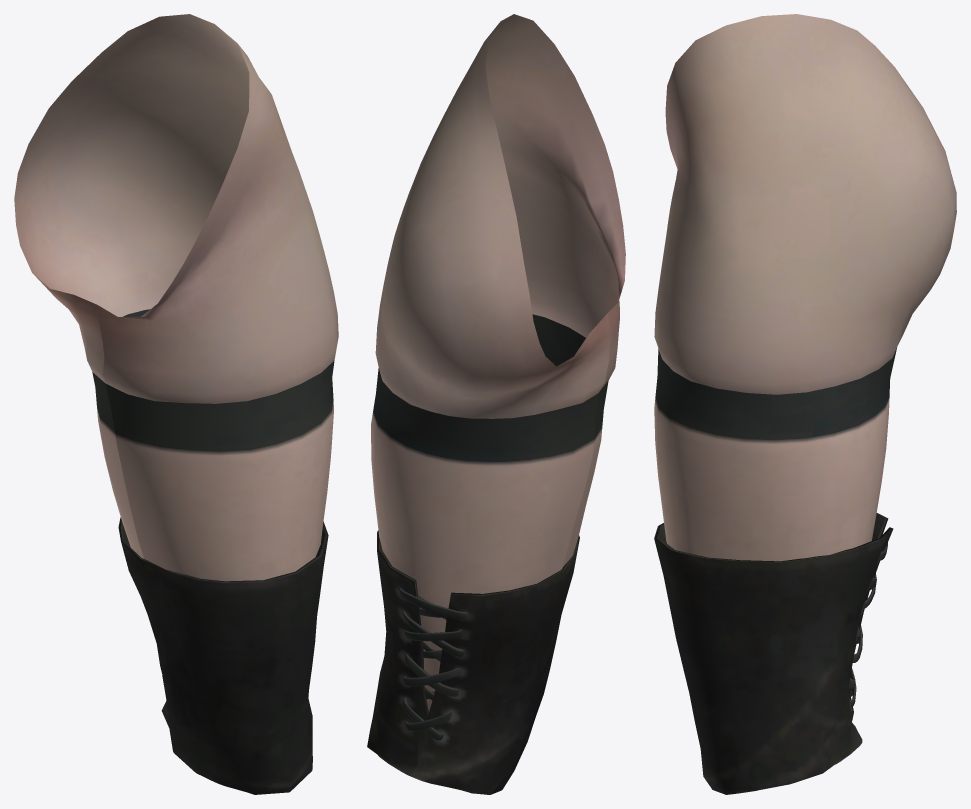
The model's file is leftleg.obj.
3 views of the same model, side by side, from view 1: azimuth 30°, elevation 25°; view 2: azimuth 150°, elevation 25°; view 3: azimuth 270°, elevation 25° (orthographic). The views are drawn at different scales.
Parts seen in each view (by area): view 1: leftleg:Object01 leftleg:polySurface3 leftleg:polySurface7 leftl, leftleg:Object01 leftleg:polySurface3 leftleg:polySurface6 leftl; view 2: leftleg:Object01 leftleg:polySurface3 leftleg:polySurface7 leftl, leftleg:Object01 leftleg:polySurface3 leftleg:polySurface6 leftl; view 3: leftleg:Object01 leftleg:polySurface3 leftleg:polySurface7 leftl, leftleg:Object01 leftleg:polySurface3 leftleg:polySurface6 leftl.
Boxes of the visible parts, x1,y1,x2,y2 form: leftleg:Object01 leftleg:polySurface3 leftleg:polySurface7 leftl: [14, 14, 338, 581]; leftleg:Object01 leftleg:polySurface3 leftleg:polySurface6 leftl: [118, 517, 328, 794]; leftleg:Object01 leftleg:polySurface3 leftleg:polySurface7 leftl: [371, 14, 625, 740]; leftleg:Object01 leftleg:polySurface3 leftleg:polySurface6 leftl: [367, 530, 579, 794]; leftleg:Object01 leftleg:polySurface3 leftleg:polySurface7 leftl: [654, 14, 956, 707]; leftleg:Object01 leftleg:polySurface3 leftleg:polySurface6 leftl: [654, 513, 893, 794].
Size of the model in its own units: 3.98 by 12.8 by 4.68.
Materials: 2 (2 with a texture image).
